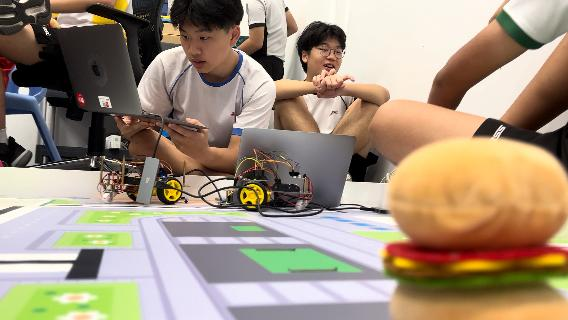burger: (381, 134, 568, 319)
